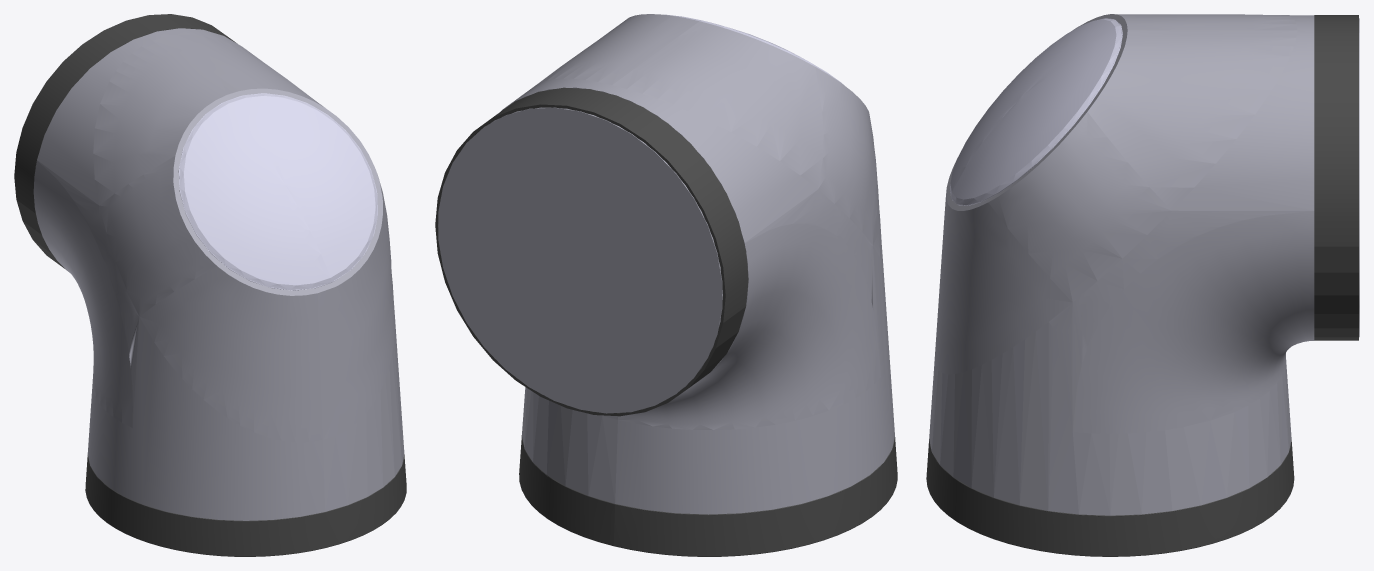
3 views of the same model, side by side, from view 1: azimuth 30°, elevation 25°; view 2: azimuth 150°, elevation 25°; view 3: azimuth 270°, elevation 25° (orthographic). The views are drawn at different scales.
Parts seen in each view (by area): view 1: mesh; view 2: mesh; view 3: mesh.
Boxes of the visible parts, bbox=[...] form: mesh: bbox=[14, 14, 406, 556]; mesh: bbox=[435, 14, 897, 556]; mesh: bbox=[926, 14, 1359, 556].
Bounding box in the file's own units: 0.1175 × 0.1383 × 0.1584.
